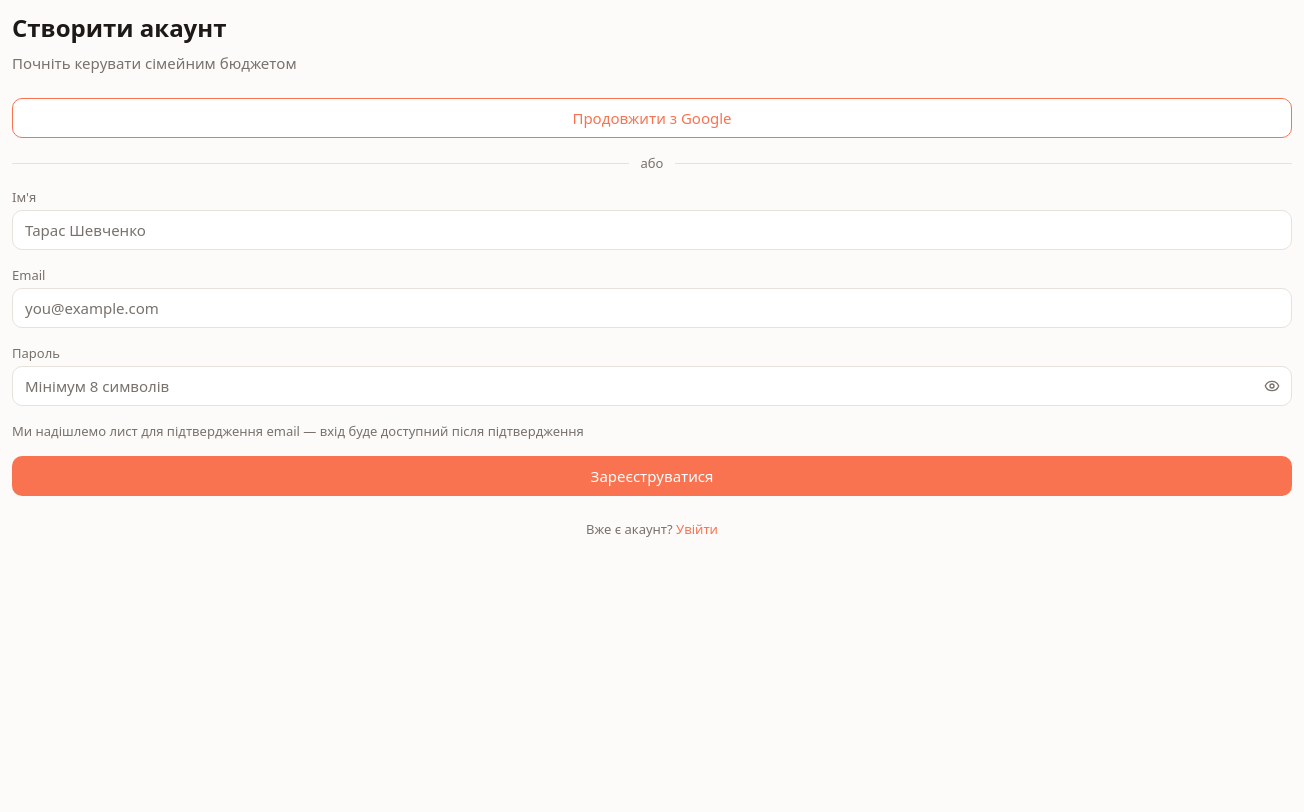
Test: SignupForm › reports an existing account
Type "a@b.co" into the field labelled "Email" at (652, 308), box x1=12 y1=288 x2=1292 y2=328
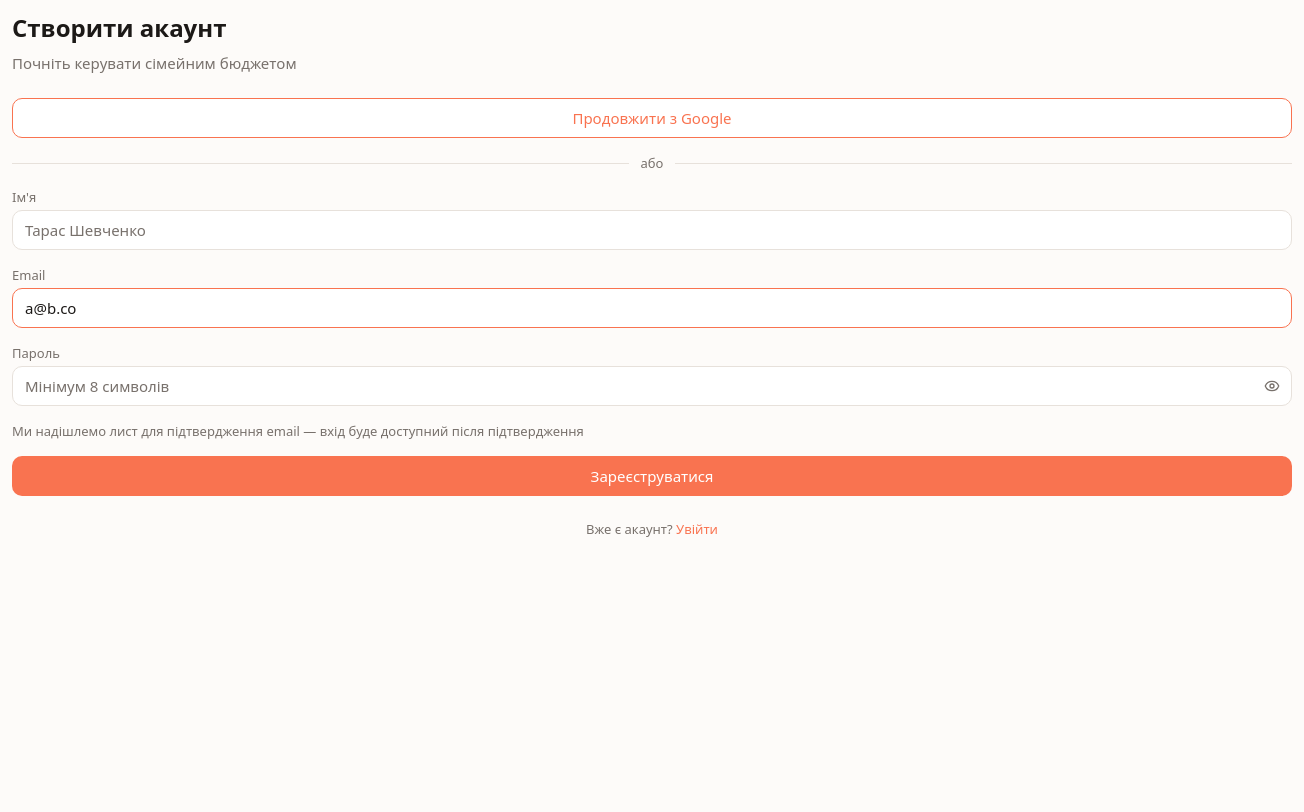
Type "12345678" into the password field labelled "Пароль" at (652, 386), box x1=12 y1=366 x2=1292 y2=406
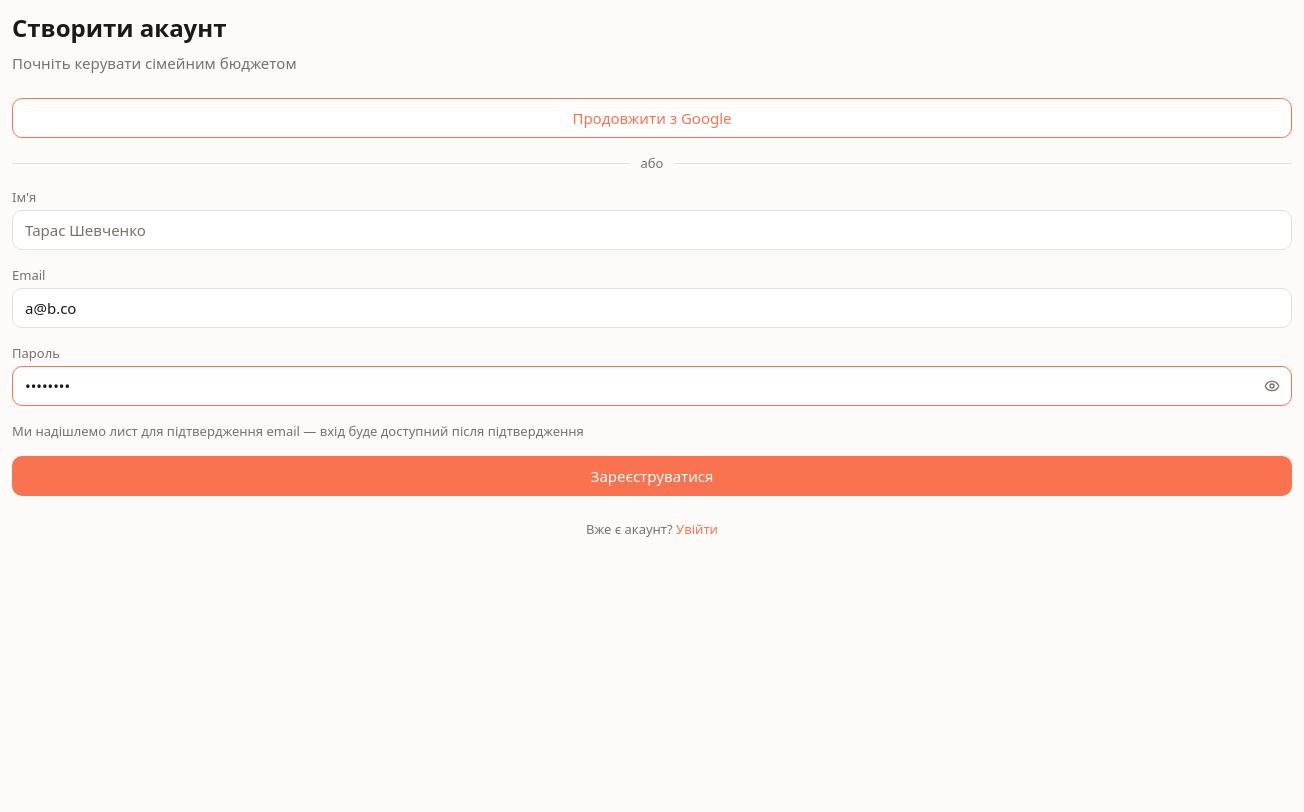
Click the button "Зареєструватися" at (652, 476), box x1=12 y1=456 x2=1292 y2=496
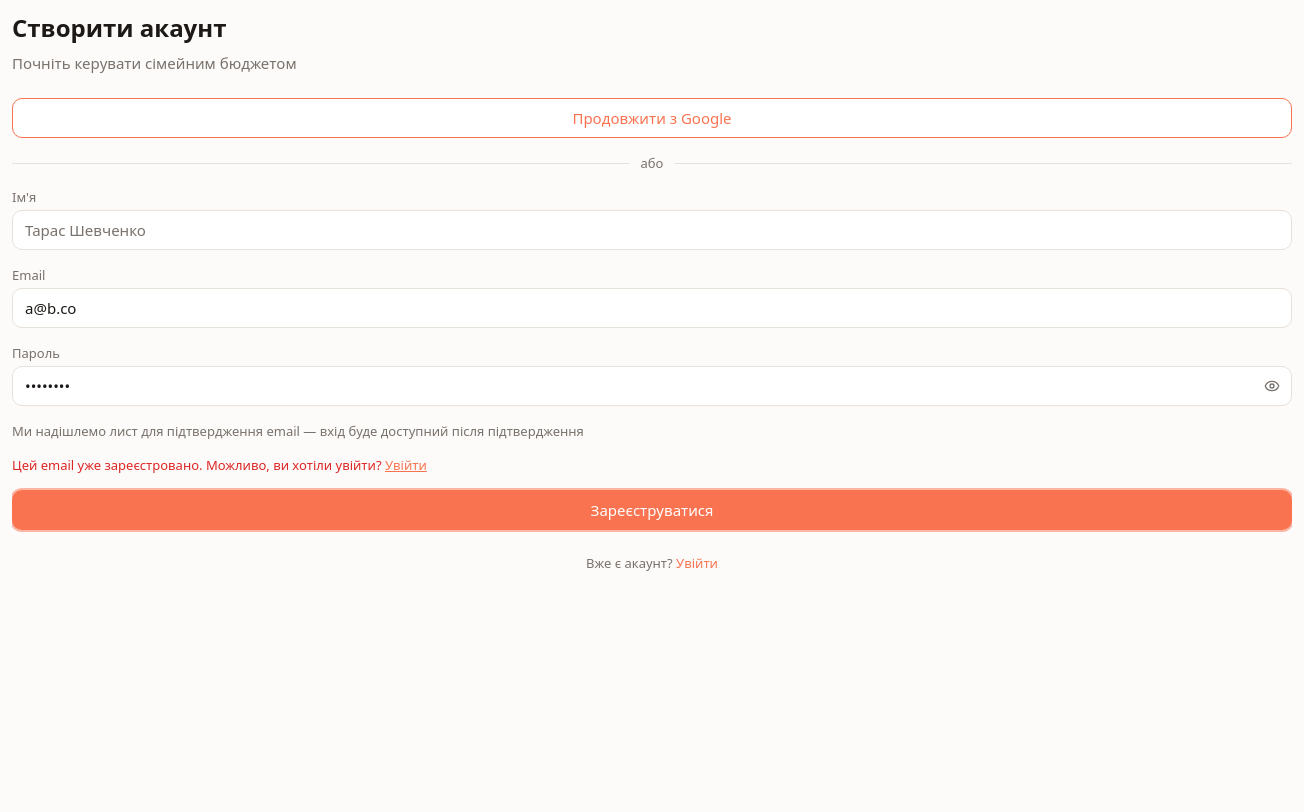
Expected: the message shows "Цей email уже зареєстровано", x1=12 y1=456 x2=382 y2=474
